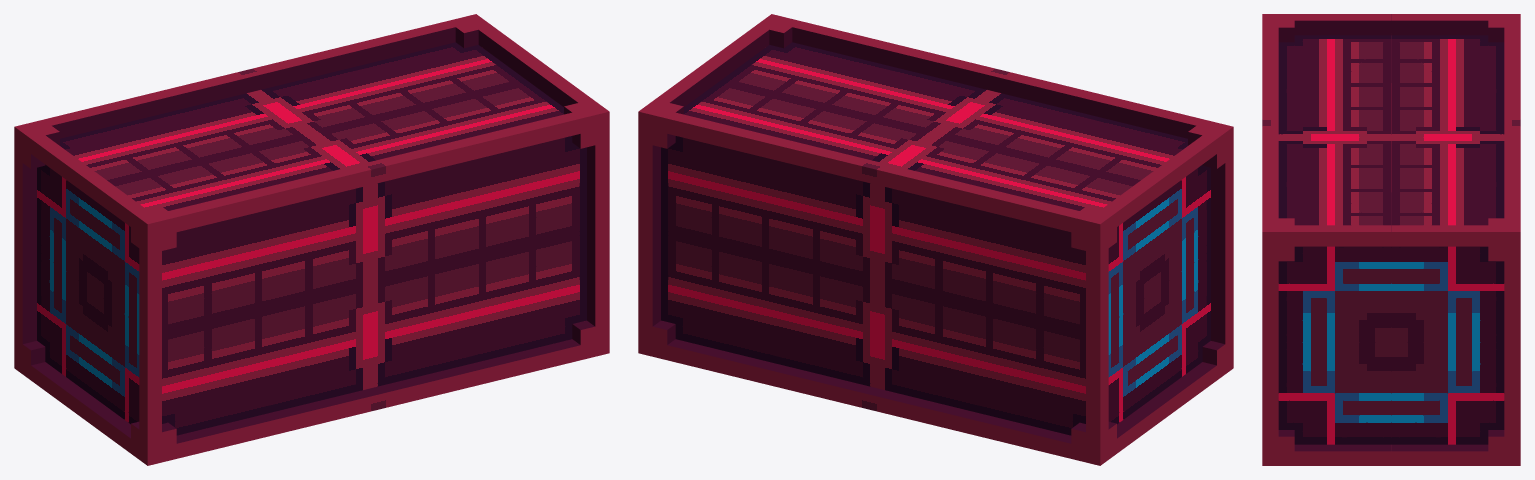
The model's file is Caixa.glb.
The picture shows the model from 3 angles, left to right: view 1: azimuth 30°, elevation 25°; view 2: azimuth 150°, elevation 25°; view 3: azimuth 270°, elevation 25°; orthographic projection. The views are drawn at different scales.
Visible parts, largest first — view 1: Cube.002; view 2: Cube.002; view 3: Cube.002.
Boxes of the visible parts, x1,y1,x2,y2 form: Cube.002: [14, 14, 609, 465]; Cube.002: [638, 14, 1233, 465]; Cube.002: [1262, 14, 1520, 465].
Size of the model in its own units: 3.2 by 1.6 by 1.6.
Materials: 1 (1 with a texture image).
